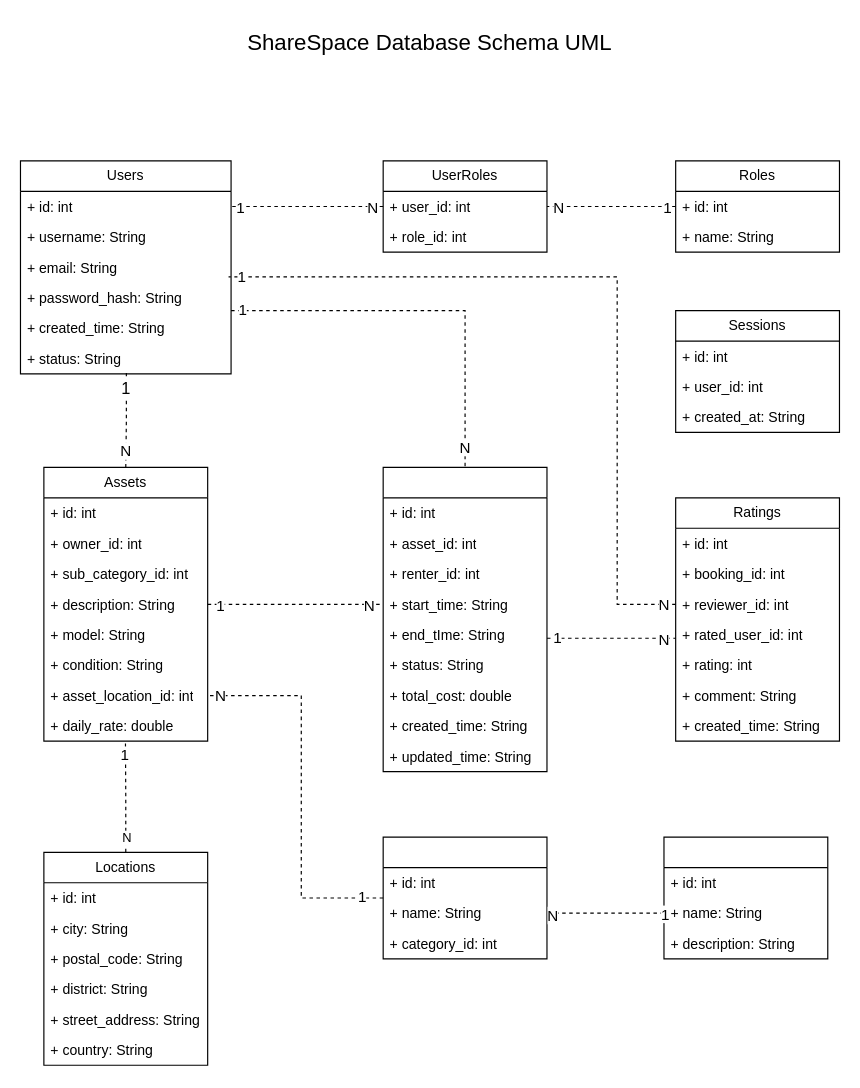
Some shapes in this 860 by 1088 pixel diagram are drawn without their labels. Each missing label, with the box of its shape:
Bookings: (382, 466, 547, 772)
Categories: (663, 836, 828, 959)
SubCategories: (382, 836, 547, 959)
